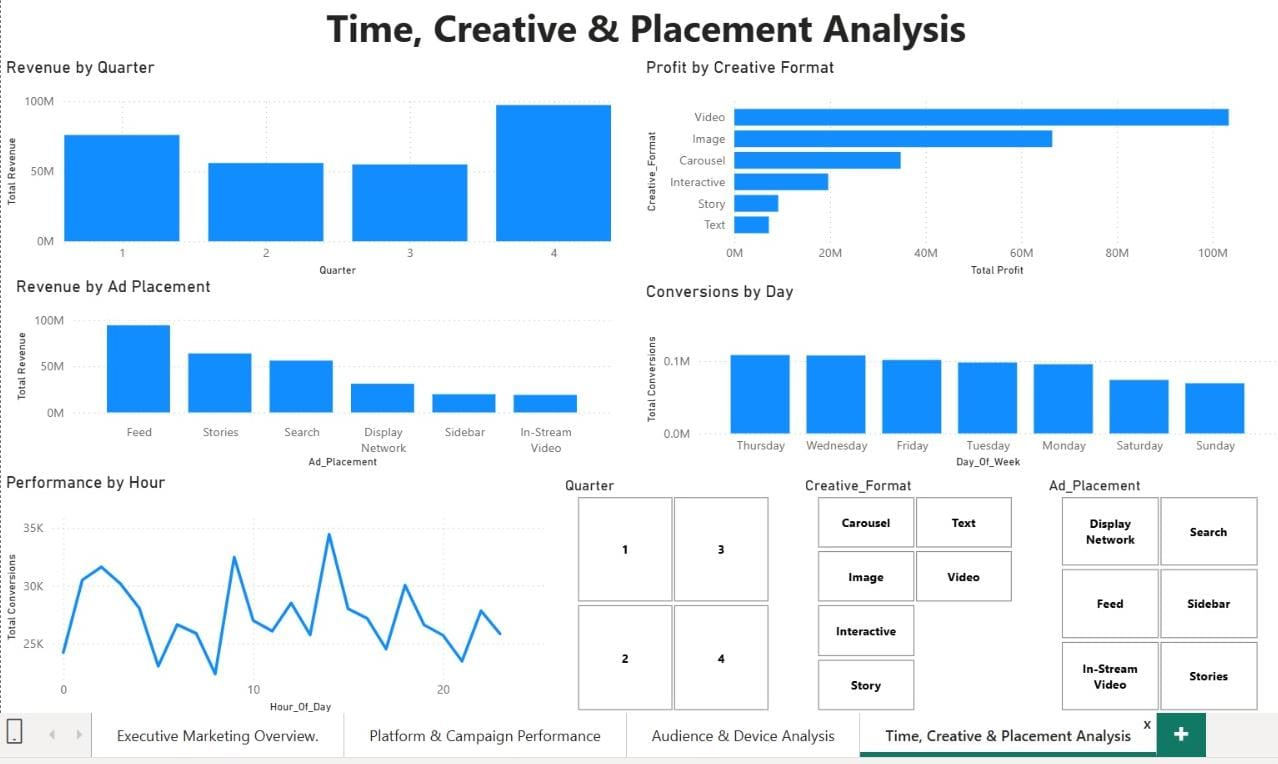

The page's visual inventory and layout, read from the dashboard file:
{"tool":"powerbi","page":{"name":"Time, Creative & Placement Analysis","canvas":[1280,720],"ordinal":3},"visuals":[{"type":"textbox","box":[10,0,1270,60],"z":0},{"type":"clusteredColumnChart","title":" Revenue by Quarter","fields":{"Category":["tech_advertising_campaigns_data.Quarter"],"Y":["tech_advertising_campaigns_data.Total Revenue"]},"box":[0,60,615,223.3],"z":1},{"type":"clusteredColumnChart","title":" Revenue by Ad Placement","fields":{"Category":["tech_advertising_campaigns_data.Ad_Placement"],"Y":["tech_advertising_campaigns_data.Total Revenue"]},"box":[10,278.3,605,196.7],"z":2},{"type":"clusteredBarChart","title":"Profit by Creative Format","fields":{"Category":["tech_advertising_campaigns_data.Creative_Format"],"Y":["tech_advertising_campaigns_data.Total Profit"]},"box":[640,60,640,223.3],"z":3},{"type":"clusteredColumnChart","title":"Conversions by Day","fields":{"Y":["tech_advertising_campaigns_data.Total Conversions"],"Category":["tech_advertising_campaigns_data.Day_Of_Week"]},"box":[640,283.3,640,191.7],"z":4},{"type":"lineChart","title":"Performance by Hour","fields":{"Category":["tech_advertising_campaigns_data.Hour_Of_Day"],"Y":["tech_advertising_campaigns_data.Total Conversions"]},"box":[0,475,551.7,245],"z":5},{"type":"slicer","fields":{"Values":["tech_advertising_campaigns_data.Quarter"]},"box":[551.7,475,240,245],"z":6},{"type":"slicer","fields":{"Values":["tech_advertising_campaigns_data.Creative_Format"]},"box":[791.7,475,243.3,245],"z":7},{"type":"slicer","fields":{"Values":["tech_advertising_campaigns_data.Ad_Placement"]},"box":[1035,475,245,245],"z":8}]}

Visuals, with their boxes on the page's 1280x720 design canvas (x1, y1, x2, y2). These are canvas units, not pixel positions in the 1278x764 screenshot, which may show the page scaled, cropped or inside an application window:
textbox: 10, 0, 1280, 60
" Revenue by Quarter" clusteredColumnChart: 0, 60, 615, 283
" Revenue by Ad Placement" clusteredColumnChart: 10, 278, 615, 475
"Profit by Creative Format" clusteredBarChart: 640, 60, 1280, 283
"Conversions by Day" clusteredColumnChart: 640, 283, 1280, 475
"Performance by Hour" lineChart: 0, 475, 552, 720
slicer - tech_advertising_campaigns_data.Quarter: 552, 475, 792, 720
slicer - tech_advertising_campaigns_data.Creative_Format: 792, 475, 1035, 720
slicer - tech_advertising_campaigns_data.Ad_Placement: 1035, 475, 1280, 720
